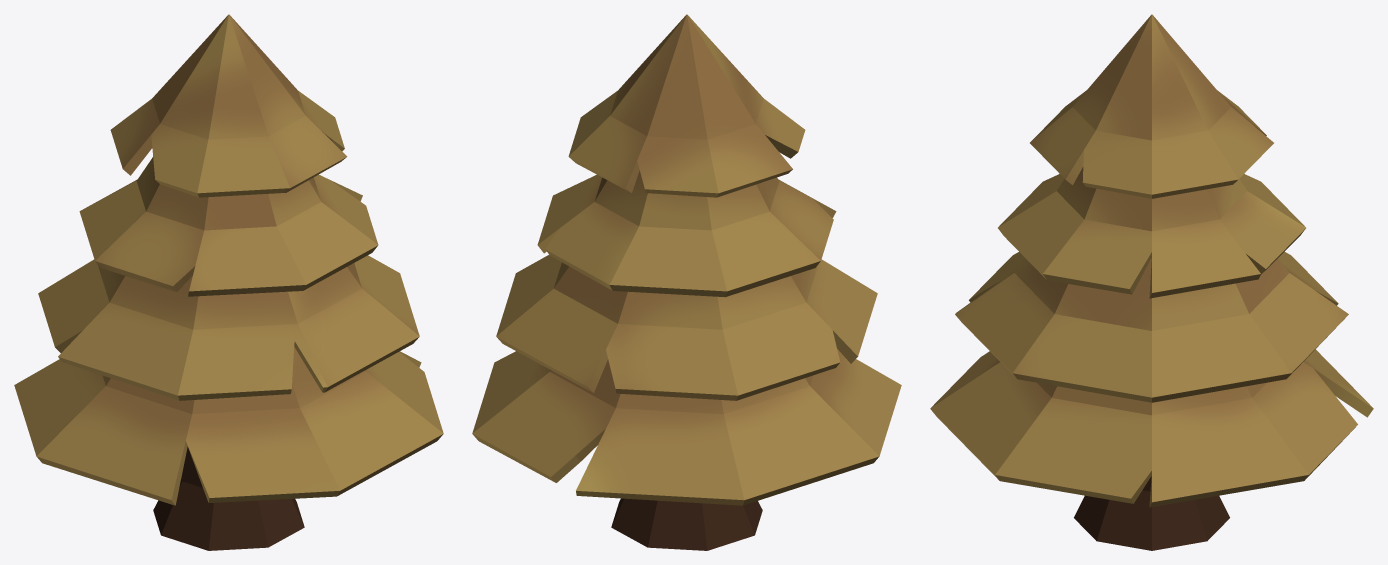
File: DeadTree.glb
The picture shows the model from 3 angles, left to right: view 1: azimuth 30°, elevation 25°; view 2: azimuth 150°, elevation 25°; view 3: azimuth 270°, elevation 25°; orthographic projection.
Parts seen in each view (by area): view 1: Cone.001, Cylinder; view 2: Cone.001, Cylinder; view 3: Cone.001, Cylinder.
Part boxes in pixels (x1,y1,x2,y2): Cone.001: (14,14,443,505); Cylinder: (153,447,304,550); Cone.001: (472,14,901,505); Cylinder: (611,498,762,550); Cone.001: (930,14,1373,507); Cylinder: (1074,476,1229,550).
Bounding box in the file's own units: 5.96 × 7.47 × 5.96.
2 materials, 2 textured.
